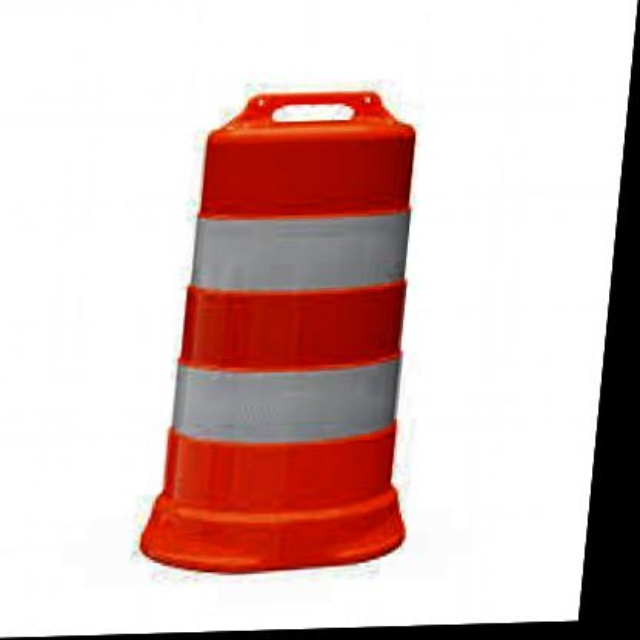obstacle: (147, 89, 433, 599)
